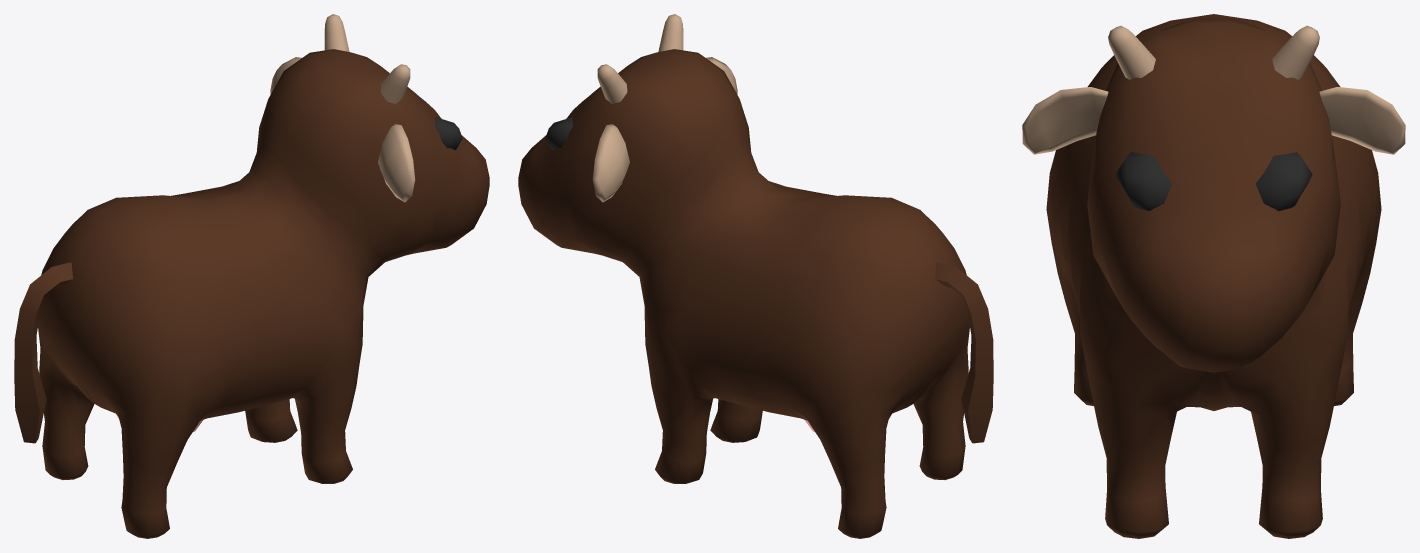
The model's file is Cow(UsedForParent).fbx.
The picture shows the model from 3 angles, left to right: view 1: azimuth 30°, elevation 25°; view 2: azimuth 150°, elevation 25°; view 3: azimuth 270°, elevation 25°; orthographic projection. The views are drawn at different scales.
Parts seen in each view (by area): view 1: RetopoFlow; view 2: RetopoFlow; view 3: RetopoFlow.
Boxes of the visible parts, x1,y1,x2,y2 form: RetopoFlow: (14,14,489,538); RetopoFlow: (518,14,993,538); RetopoFlow: (1022,14,1405,538).
Bounding box in the file's own units: 235 × 191 × 121.
